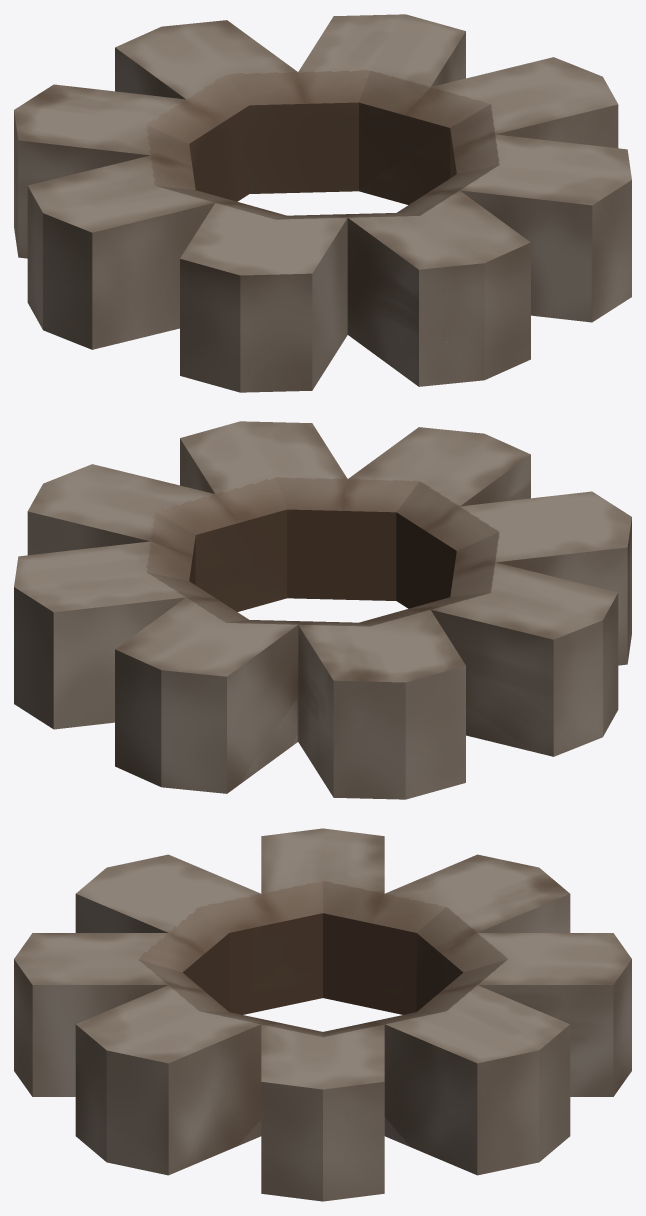
Rendered from Cog.fbx.
The picture shows the model from 3 angles, top to bottom: view 1: azimuth 30°, elevation 25°; view 2: azimuth 150°, elevation 25°; view 3: azimuth 270°, elevation 25°; orthographic projection. The views are drawn at different scales.
Parts seen in each view (by area): view 1: Plane; view 2: Plane; view 3: Plane.
Part boxes in pixels (x1=…): Plane: x1=14, y1=14, x2=631, y2=392; Plane: x1=14, y1=421, x2=631, y2=799; Plane: x1=14, y1=828, x2=631, y2=1201.
Bounding box in the file's own units: 1 × 0.2 × 1.
